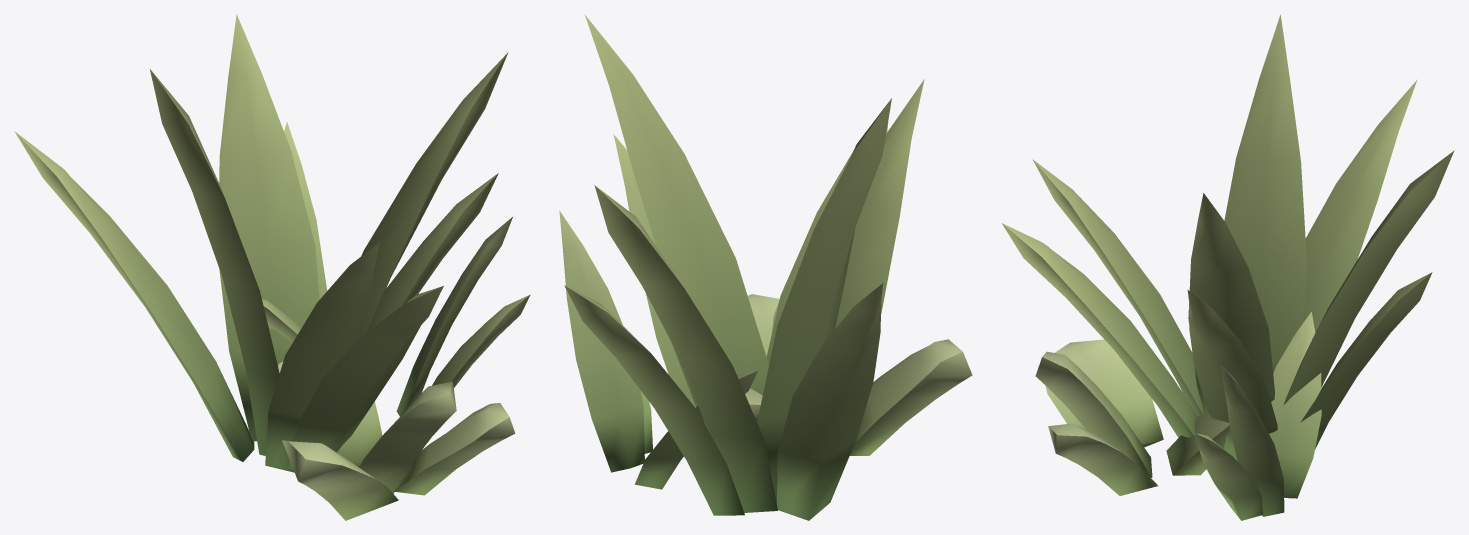
File: grass_mixed_b.glb
3 views of the same model, side by side, from view 1: azimuth 30°, elevation 25°; view 2: azimuth 150°, elevation 25°; view 3: azimuth 270°, elevation 25° (orthographic). The views are drawn at different scales.
Visible parts, largest first — view 1: Grass_Mixed_B.001; view 2: Grass_Mixed_B.001; view 3: Grass_Mixed_B.001.
Part boxes in pixels (<box>): Grass_Mixed_B.001: <box>14,14,530,520</box>; Grass_Mixed_B.001: <box>559,14,972,520</box>; Grass_Mixed_B.001: <box>1001,14,1454,520</box>.
Size of the model in its own units: 0.5292 by 0.5245 by 0.5441.
